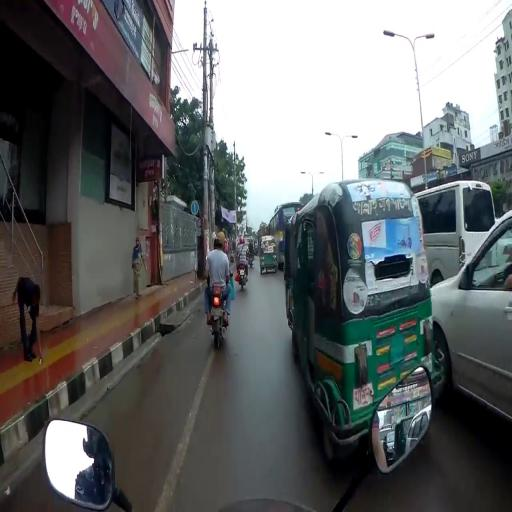bus: (268, 201, 301, 263)
motorbike: (197, 277, 234, 351), (232, 261, 251, 294)
three wheelers (CNG): (292, 177, 451, 467), (258, 234, 281, 277)
van: (416, 181, 501, 294)
